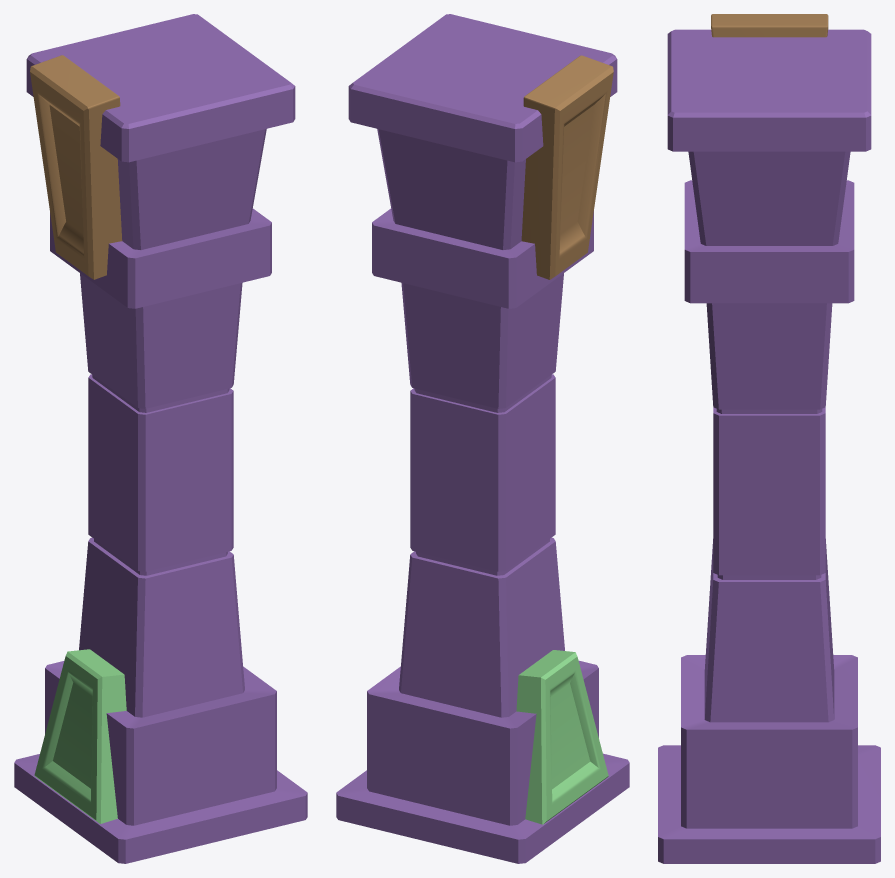
The model's file is Pillar_HighPoly.fbx.
3 views of the same model, side by side, from view 1: azimuth 30°, elevation 25°; view 2: azimuth 150°, elevation 25°; view 3: azimuth 270°, elevation 25° (orthographic).
Parts seen in each view (by area): view 1: Base, TopBlock, BotBlock; view 2: Base, TopBlock, BotBlock; view 3: Base, TopBlock.
Part boxes in pixels (x1,y1,x2,y2): Base: (14, 14, 307, 863); TopBlock: (30, 55, 122, 279); BotBlock: (34, 649, 126, 823); Base: (336, 14, 629, 863); TopBlock: (521, 55, 613, 279); BotBlock: (516, 650, 608, 824); Base: (658, 29, 880, 863); TopBlock: (711, 14, 828, 37).
Bounding box in the file's own units: 113 × 402 × 107.
